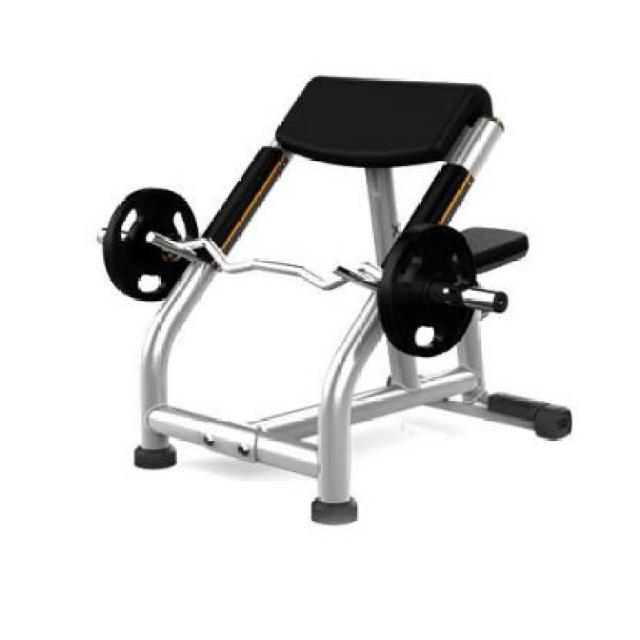arm curl machine: (95, 74, 576, 526)
